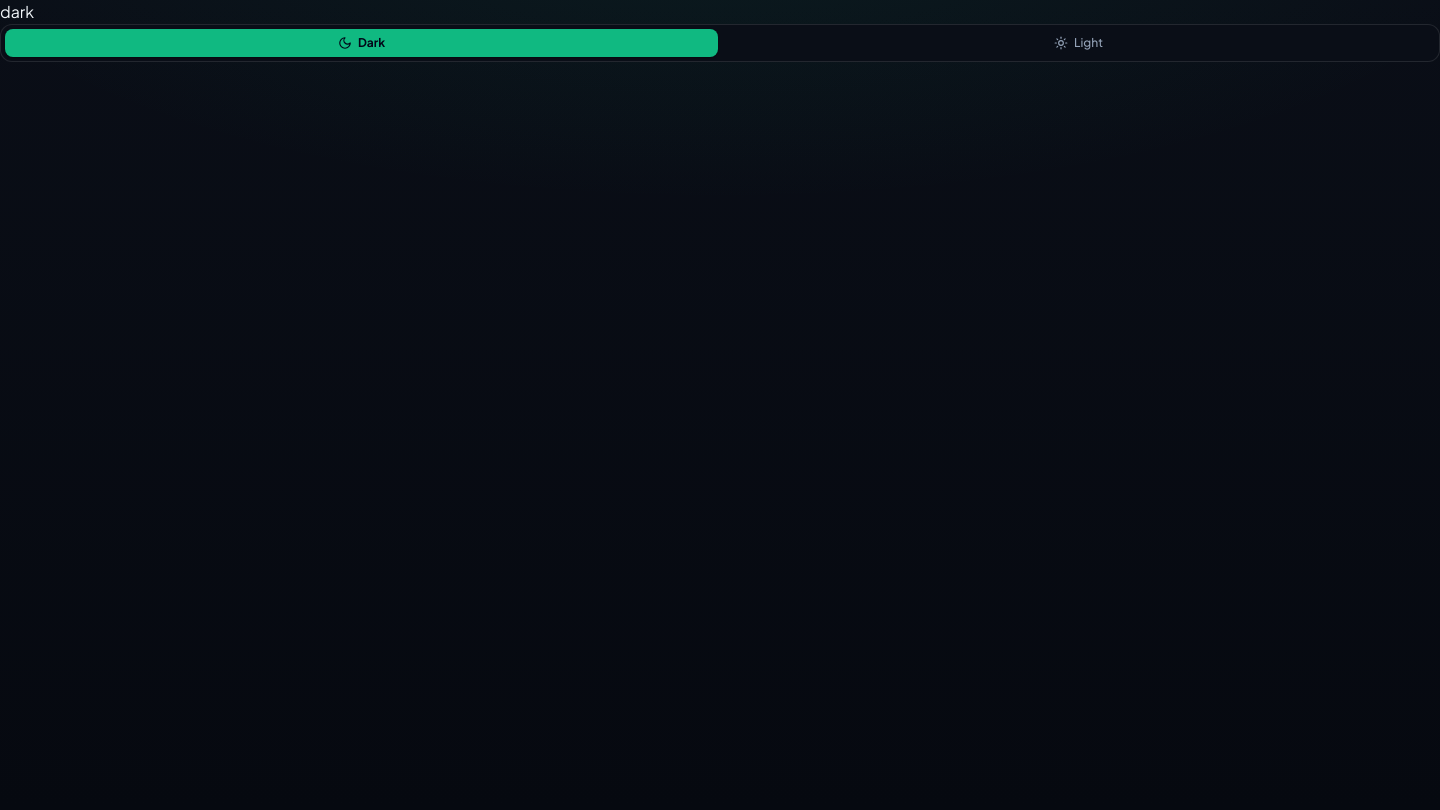
Test: Dual-Theme System — ThemeProvider & ThemeToggle › updates aria-pressed and switches modes correctly in pill variant
Click the button "Light" at [1078, 43], box [722,29,1435,57]
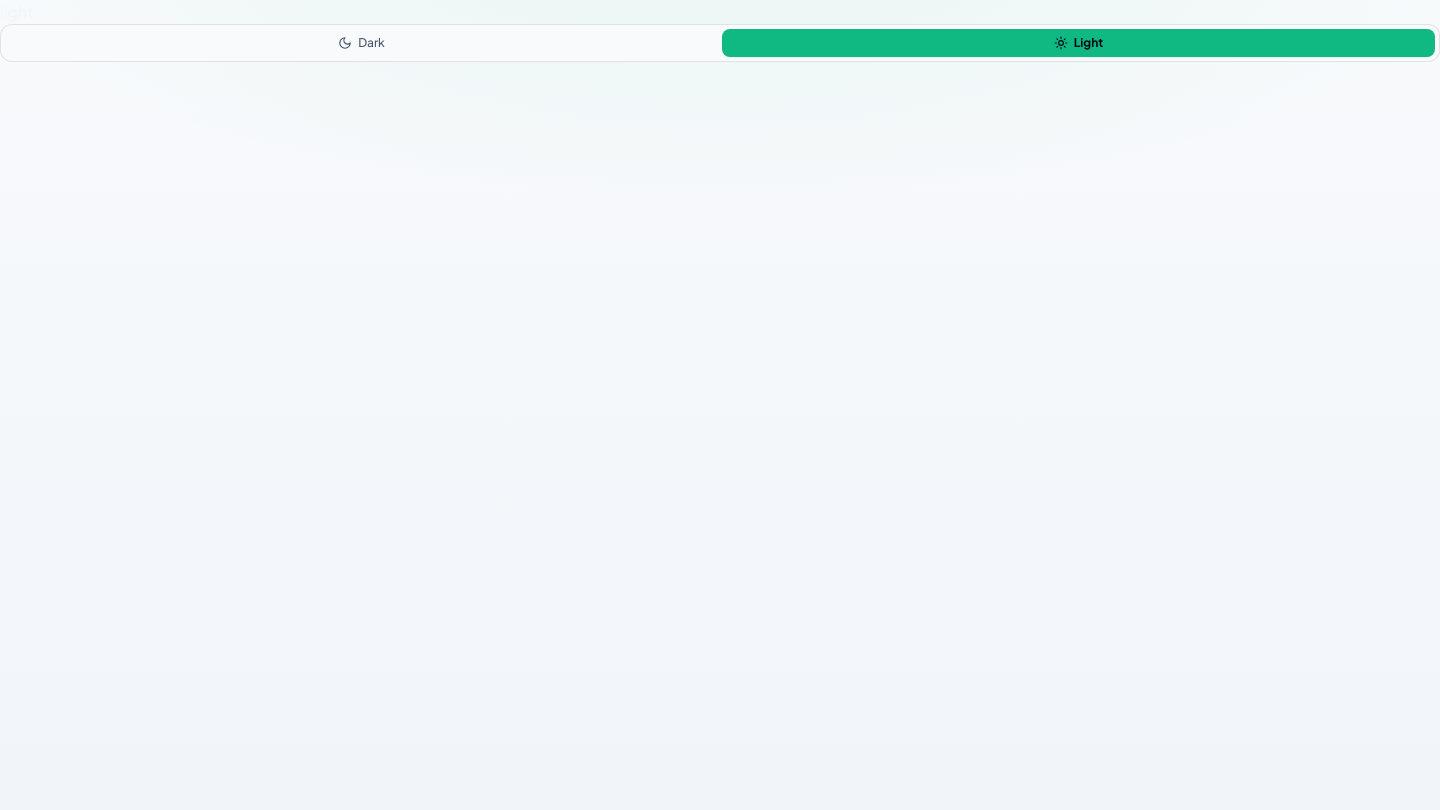
Expected: the button "Dark" is not pressed
Expected: the button "Light" is pressed, [722,29,1435,57]
Click the button "Dark" at [362, 43], box [5,29,718,57]
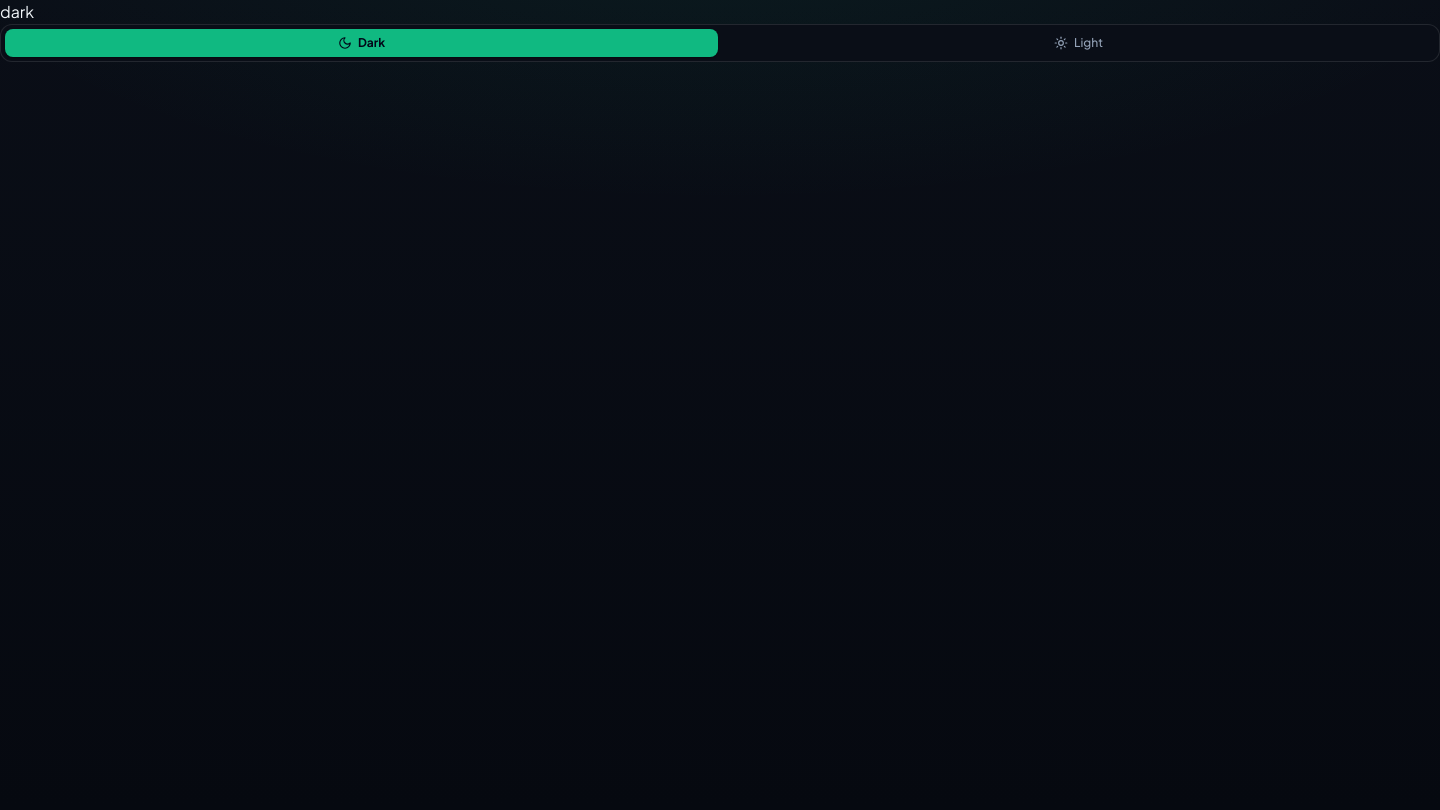
Expected: the text with test id "active-theme" reads "dark", [0,1,34,22]
